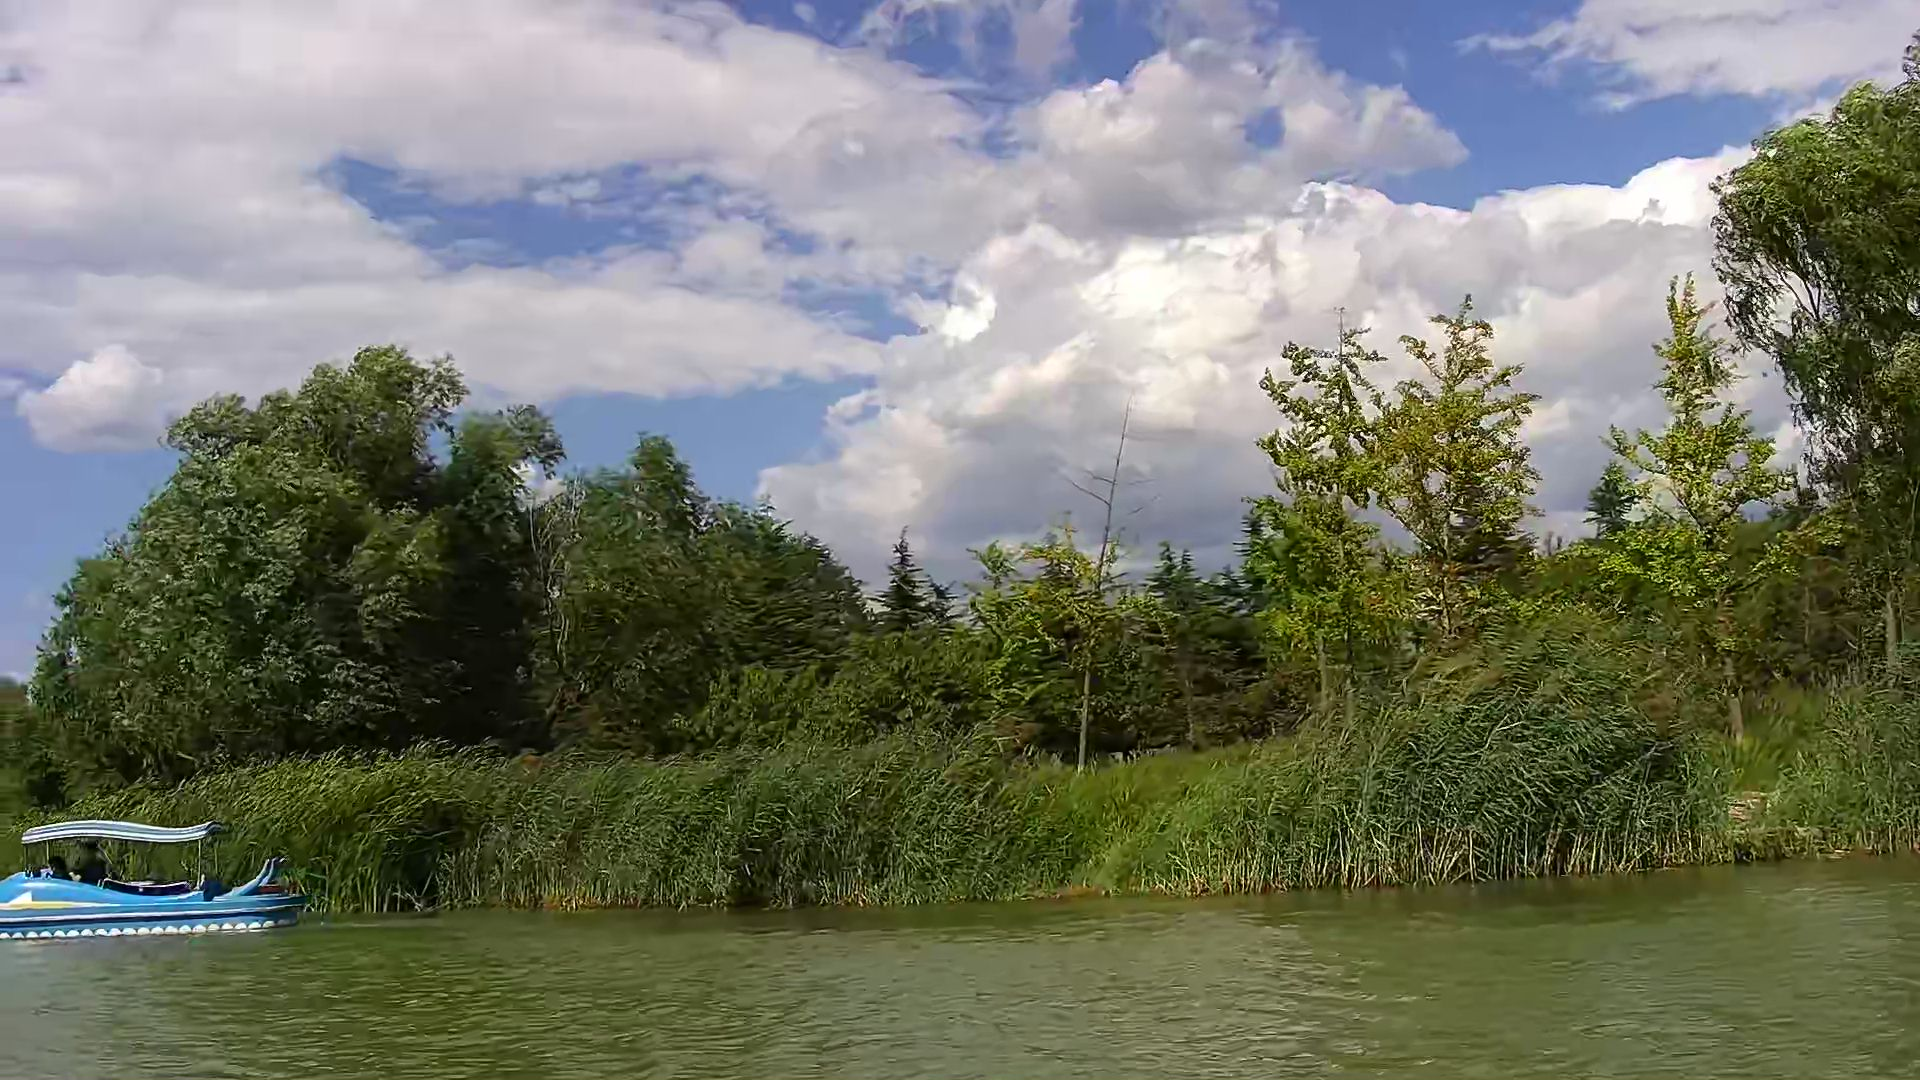boat: (1, 823, 305, 939)
